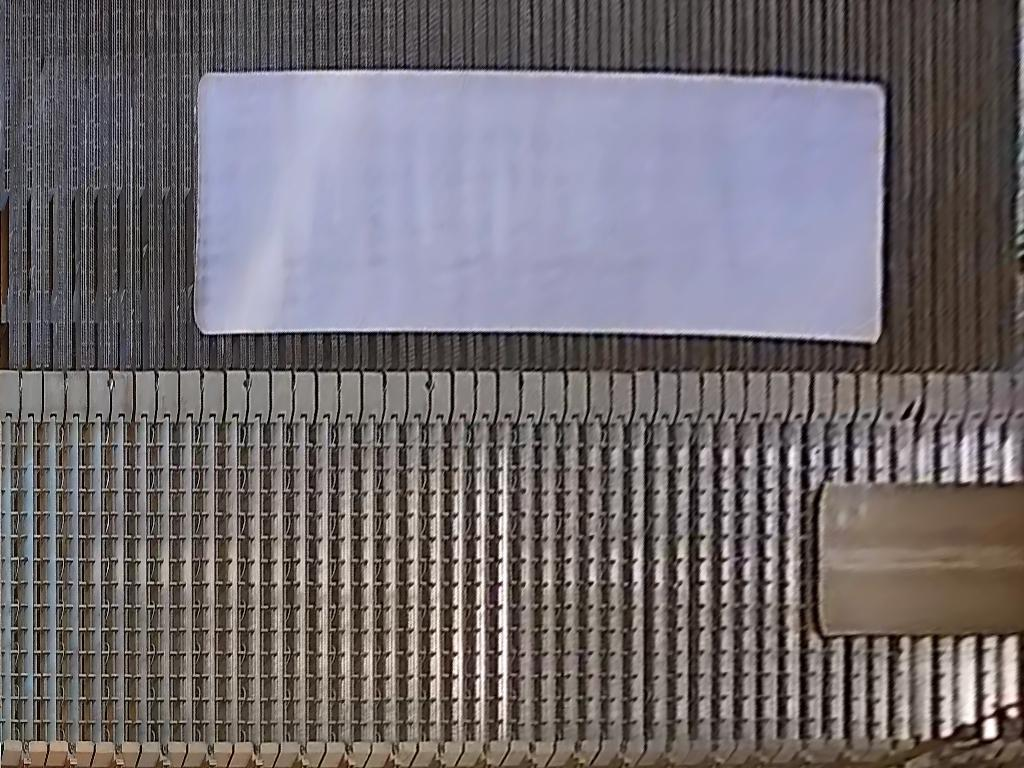steel: (196, 68, 887, 345), (815, 480, 1024, 636)
